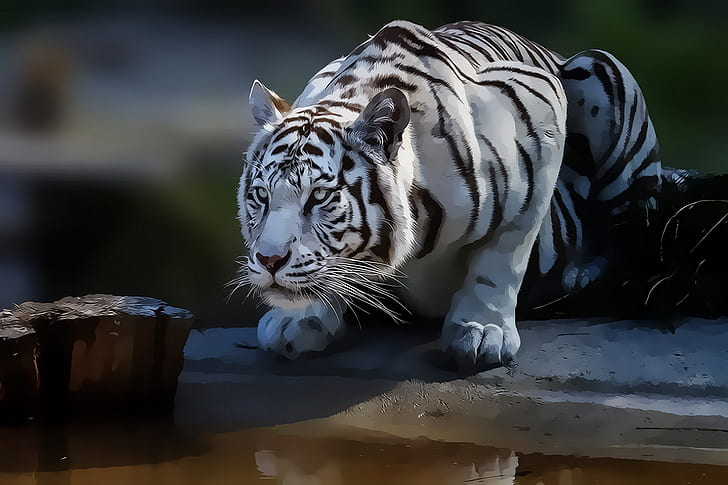Tigrew: (215, 26, 655, 380)
